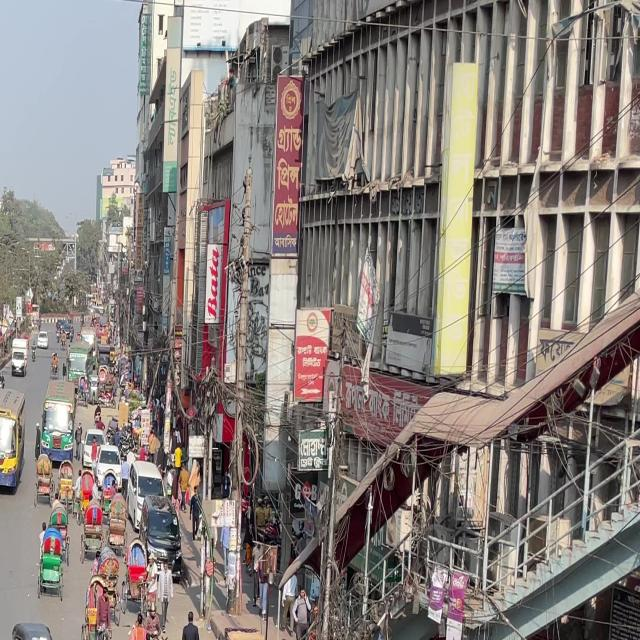bus: (40, 372, 79, 468), (0, 379, 30, 491)
car: (133, 485, 188, 574), (125, 458, 169, 530), (93, 441, 124, 497), (82, 422, 107, 476)
rickshaw: (7, 618, 61, 640)
